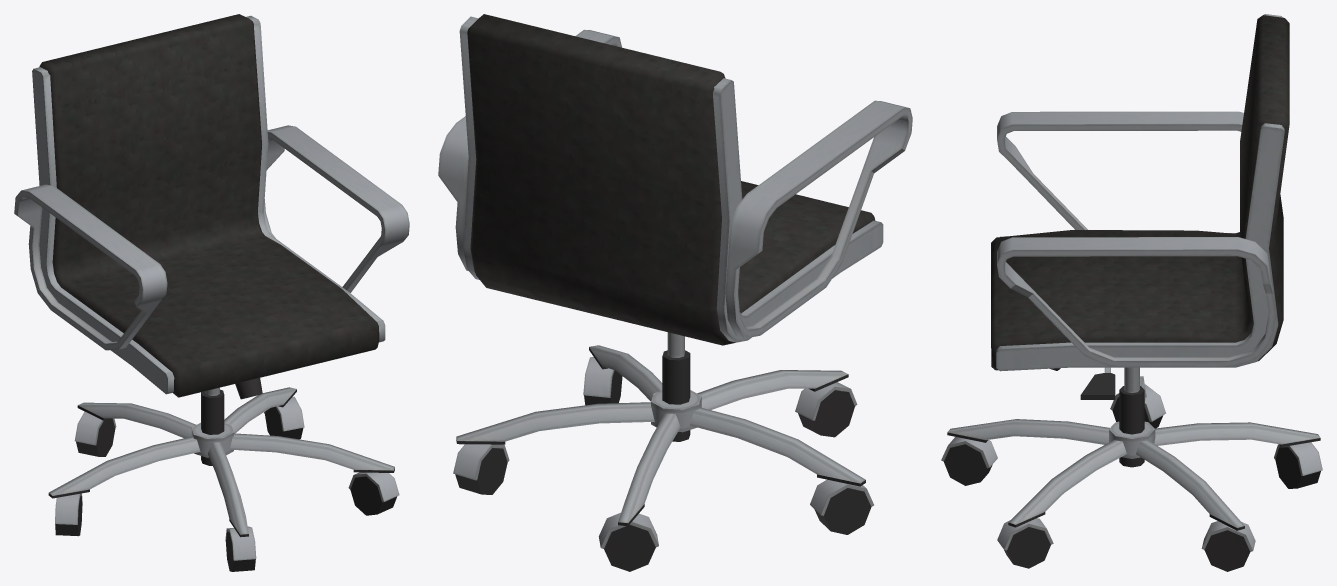
The model's file is chair_low.glb.
The picture shows the model from 3 angles, left to right: view 1: azimuth 30°, elevation 25°; view 2: azimuth 150°, elevation 25°; view 3: azimuth 270°, elevation 25°; orthographic projection. The views are drawn at different scales.
Visible parts, largest first — view 1: OfficeChair_Modern_OfficeChair_Modern_0; view 2: OfficeChair_Modern_OfficeChair_Modern_0; view 3: OfficeChair_Modern_OfficeChair_Modern_0.
Boxes of the visible parts, x1=… form: OfficeChair_Modern_OfficeChair_Modern_0: x1=14, y1=14, x2=409, y2=571; OfficeChair_Modern_OfficeChair_Modern_0: x1=438, y1=14, x2=912, y2=571; OfficeChair_Modern_OfficeChair_Modern_0: x1=941, y1=14, x2=1322, y2=571.
Size of the model in its own units: 0.6484 by 0.8695 by 0.6837.
Materials: 1 (1 with a texture image).
